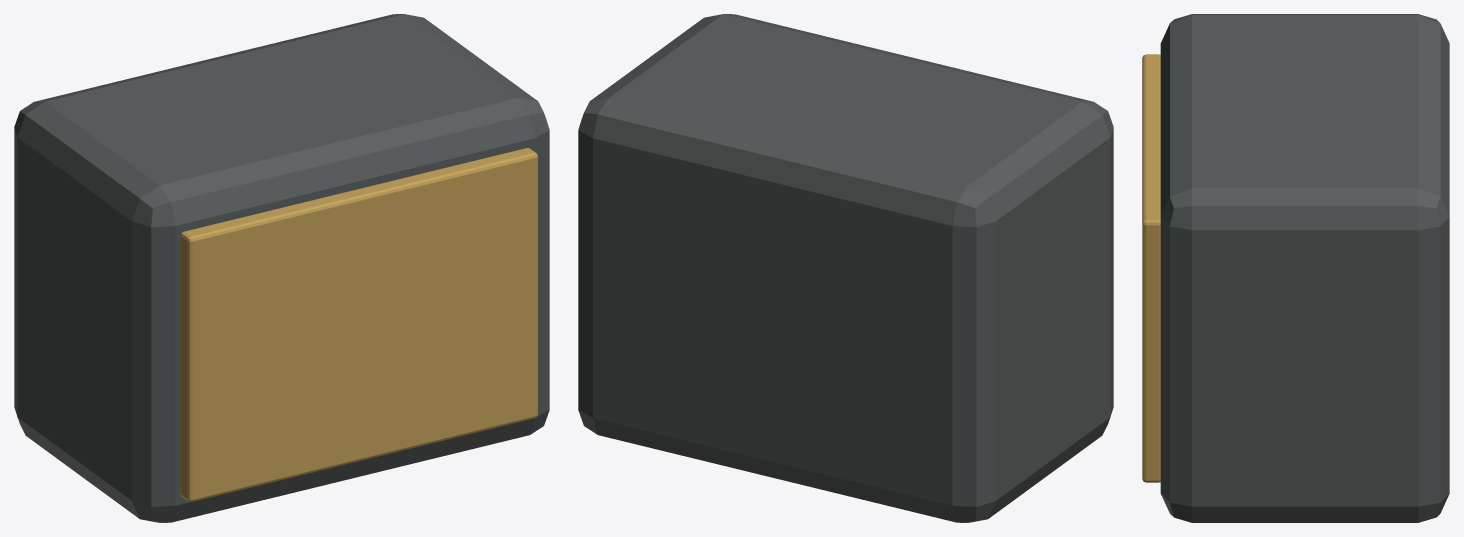
File: EquipmentCase_01.fbx
3 views of the same model, side by side, from view 1: azimuth 30°, elevation 25°; view 2: azimuth 150°, elevation 25°; view 3: azimuth 270°, elevation 25° (orthographic).
Parts seen in each view (by area): view 1: Case, Trim; view 2: Case; view 3: Case, Trim.
Part boxes in pixels (x1=…): Case: x1=14, y1=14, x2=549, y2=522; Trim: x1=180, y1=148, x2=537, y2=501; Case: x1=578, y1=14, x2=1113, y2=522; Case: x1=1160, y1=14, x2=1449, y2=522; Trim: x1=1142, y1=54, x2=1160, y2=482.
Bounding box in the file's own units: 0.9 × 0.7 × 0.585.
